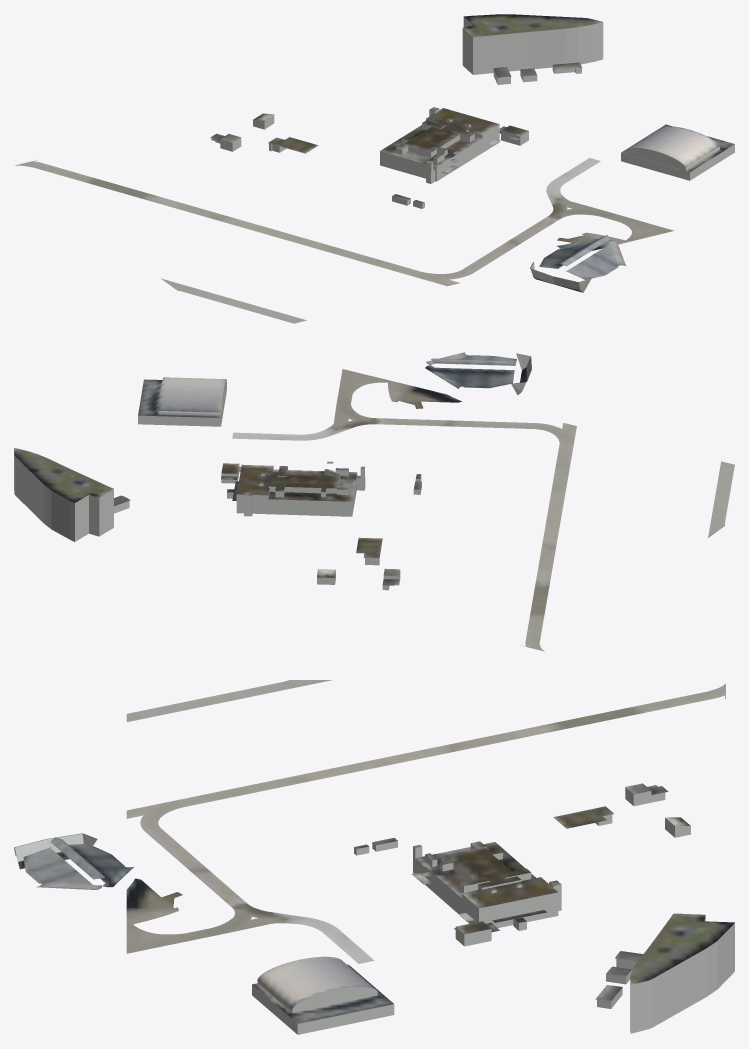
The model's file is LSZH_2_-3.glb.
3 views of the same model, one above another, from view 1: azimuth 30°, elevation 25°; view 2: azimuth 150°, elevation 25°; view 3: azimuth 270°, elevation 25° (orthographic). The views are drawn at different scales.
Visible parts, largest first — view 1: pavement_LSZH_pavement_5369_2511, building_42fe5b810b8066b9, building_b7529ace5e0d707f, building_0ed0c3880a057140, building_16212061f6146c32, building_ede1d49092b3f29f, building_ce342fd0f656cf3f, building_9a9e12581736d20b, pavement_LSZH_pavement_5370_2511, building_1ded6eee258bcc95; view 2: pavement_LSZH_pavement_5369_2511, building_42fe5b810b8066b9, building_b7529ace5e0d707f, building_ce342fd0f656cf3f, building_0ed0c3880a057140, building_16212061f6146c32, building_ede1d49092b3f29f, pavement_LSZH_pavement_5370_2511, building_9a9e12581736d20b, building_1ded6eee258bcc95; view 3: pavement_LSZH_pavement_5369_2511, building_b7529ace5e0d707f, building_42fe5b810b8066b9, building_ce342fd0f656cf3f, building_16212061f6146c32, building_0ed0c3880a057140, building_ede1d49092b3f29f, building_9a9e12581736d20b, pavement_LSZH_pavement_5370_2511, building_1ded6eee258bcc95.
Part boxes in pixels (box(x1,y1,x2,y2)): pavement_LSZH_pavement_5369_2511: box(15, 159, 641, 323); building_42fe5b810b8066b9: box(462, 17, 603, 82); building_b7529ace5e0d707f: box(380, 107, 528, 173); building_0ed0c3880a057140: box(380, 109, 528, 183); building_16212061f6146c32: box(530, 235, 625, 292); building_ede1d49092b3f29f: box(463, 14, 602, 76); building_ce342fd0f656cf3f: box(621, 124, 734, 172); building_9a9e12581736d20b: box(621, 144, 734, 180); pavement_LSZH_pavement_5370_2511: box(558, 158, 674, 238); building_1ded6eee258bcc95: box(253, 113, 318, 153); pavement_LSZH_pavement_5369_2511: box(290, 377, 734, 651); building_42fe5b810b8066b9: box(14, 452, 113, 541); building_b7529ace5e0d707f: box(221, 461, 364, 501); building_ce342fd0f656cf3f: box(138, 377, 226, 418); building_0ed0c3880a057140: box(221, 465, 365, 516); building_16212061f6146c32: box(425, 352, 531, 395); building_ede1d49092b3f29f: box(14, 448, 113, 503); pavement_LSZH_pavement_5370_2511: box(232, 369, 375, 440); building_9a9e12581736d20b: box(138, 380, 226, 426); building_1ded6eee258bcc95: box(317, 537, 382, 578); pavement_LSZH_pavement_5369_2511: box(126, 680, 725, 933); building_b7529ace5e0d707f: box(412, 841, 561, 934); building_42fe5b810b8066b9: box(597, 916, 734, 1033); building_ce342fd0f656cf3f: box(252, 956, 393, 1023); building_16212061f6146c32: box(14, 833, 133, 889); building_0ed0c3880a057140: box(413, 844, 561, 946); building_ede1d49092b3f29f: box(595, 913, 734, 1001); building_9a9e12581736d20b: box(252, 981, 394, 1034); pavement_LSZH_pavement_5370_2511: box(126, 933, 374, 963); building_1ded6eee258bcc95: box(553, 806, 690, 828).
Bounding box in the file's own units: 698 × 46.09 × 602.
Materials: 3 (2 with a texture image).
